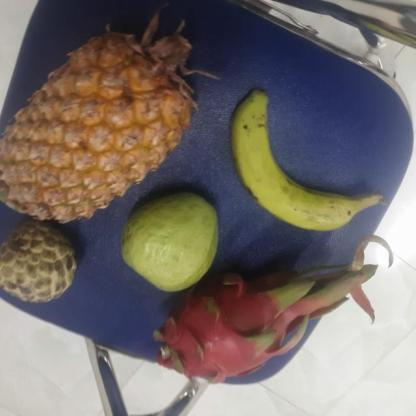annona: (0, 220, 81, 302)
banana: (233, 94, 372, 230)
guava: (119, 193, 223, 290)
pineapple: (0, 33, 200, 217)
pitaya: (158, 270, 288, 386)
